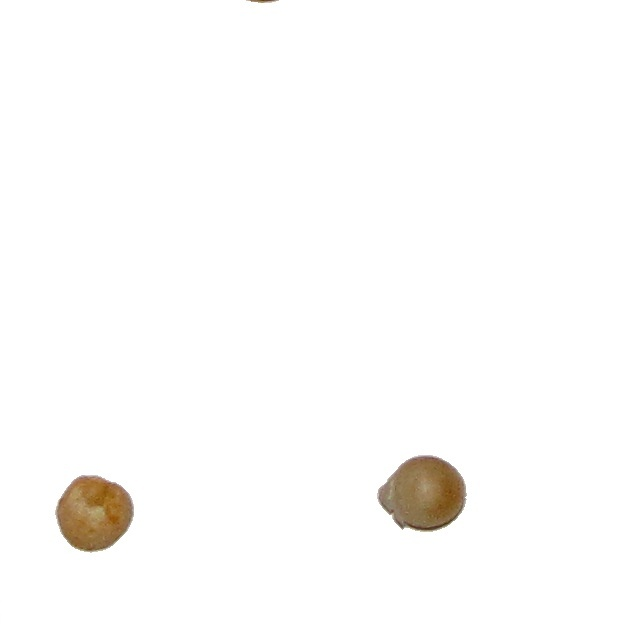mais: (376, 454, 468, 533), (54, 474, 135, 554)
